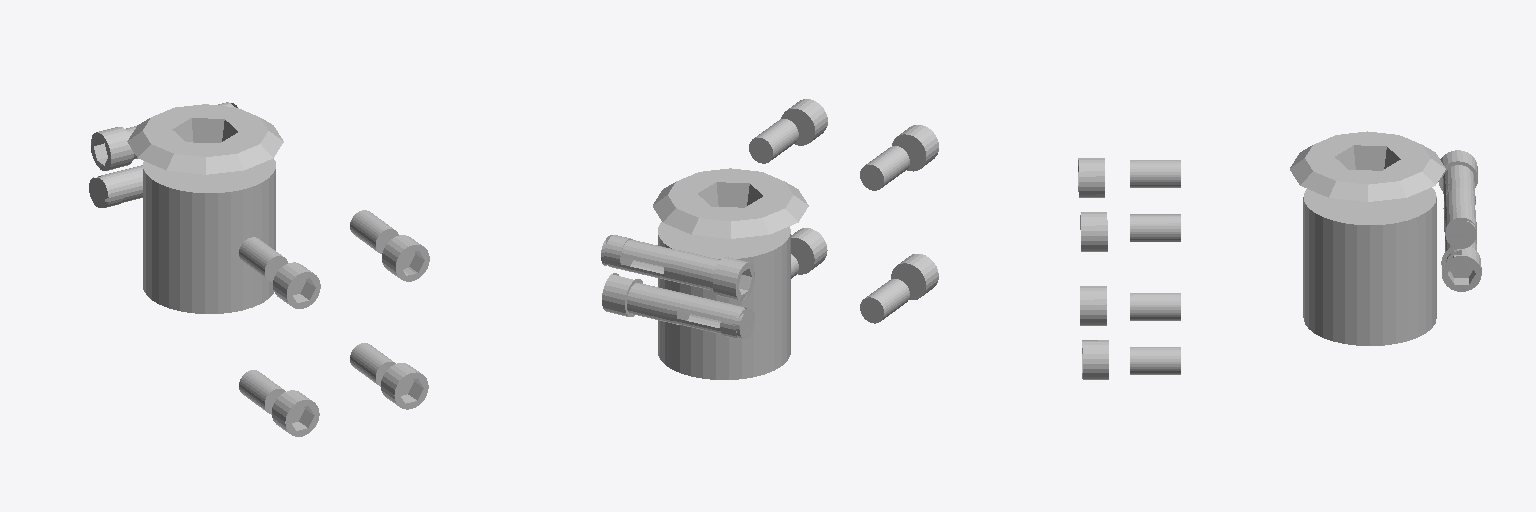
Rendered from FrontLoad2Bolts.obj.
3 renders of one model, left to right at view 1: azimuth 30°, elevation 25°; view 2: azimuth 150°, elevation 25°; view 3: azimuth 270°, elevation 25°, orthographic.
Parts seen in each view (by area): view 1: instance_0_ID5.001; view 2: instance_0_ID5.001; view 3: instance_0_ID5.001.
Boxes of the visible parts, box(x1,y1,x2,y2) form: instance_0_ID5.001: box(89, 102, 429, 436); instance_0_ID5.001: box(601, 99, 938, 379); instance_0_ID5.001: box(1078, 131, 1481, 379).
Size of the model in its own units: 0.038 by 0.0463 by 0.0893.